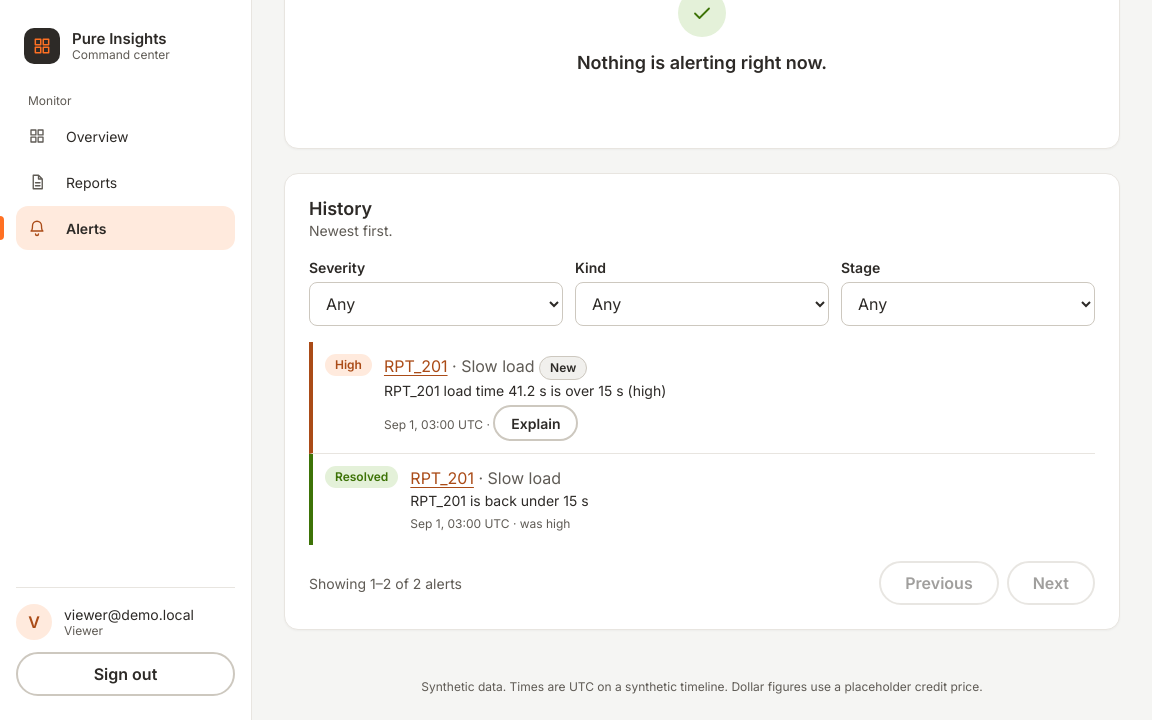
it: Explain this alert › a suggestion held for review is NOT shown to a viewer: only a message
(page scrolled)
Step 1. Click the button with aria-label "Explain alert 1" → [536, 423], box [493,405,578,441]
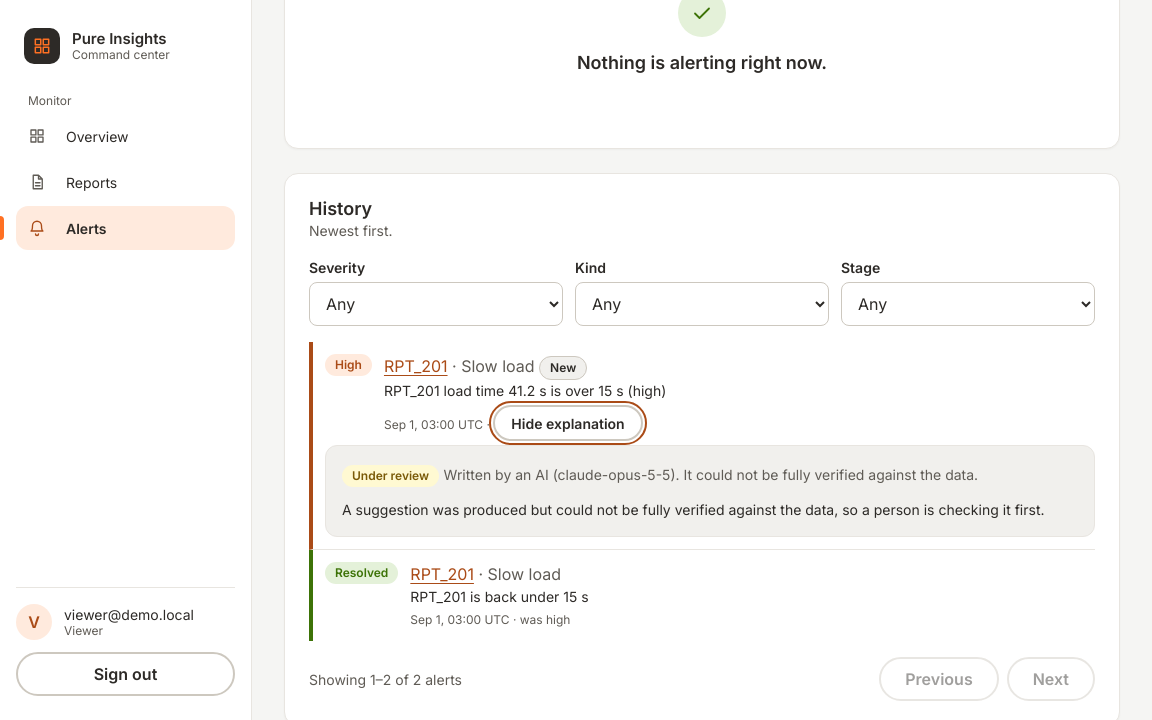
Check: the text "Under review" is shown, box [342,465,439,487]
Check: the text "a person is checking it first" is shown, box [342,501,1044,518]
